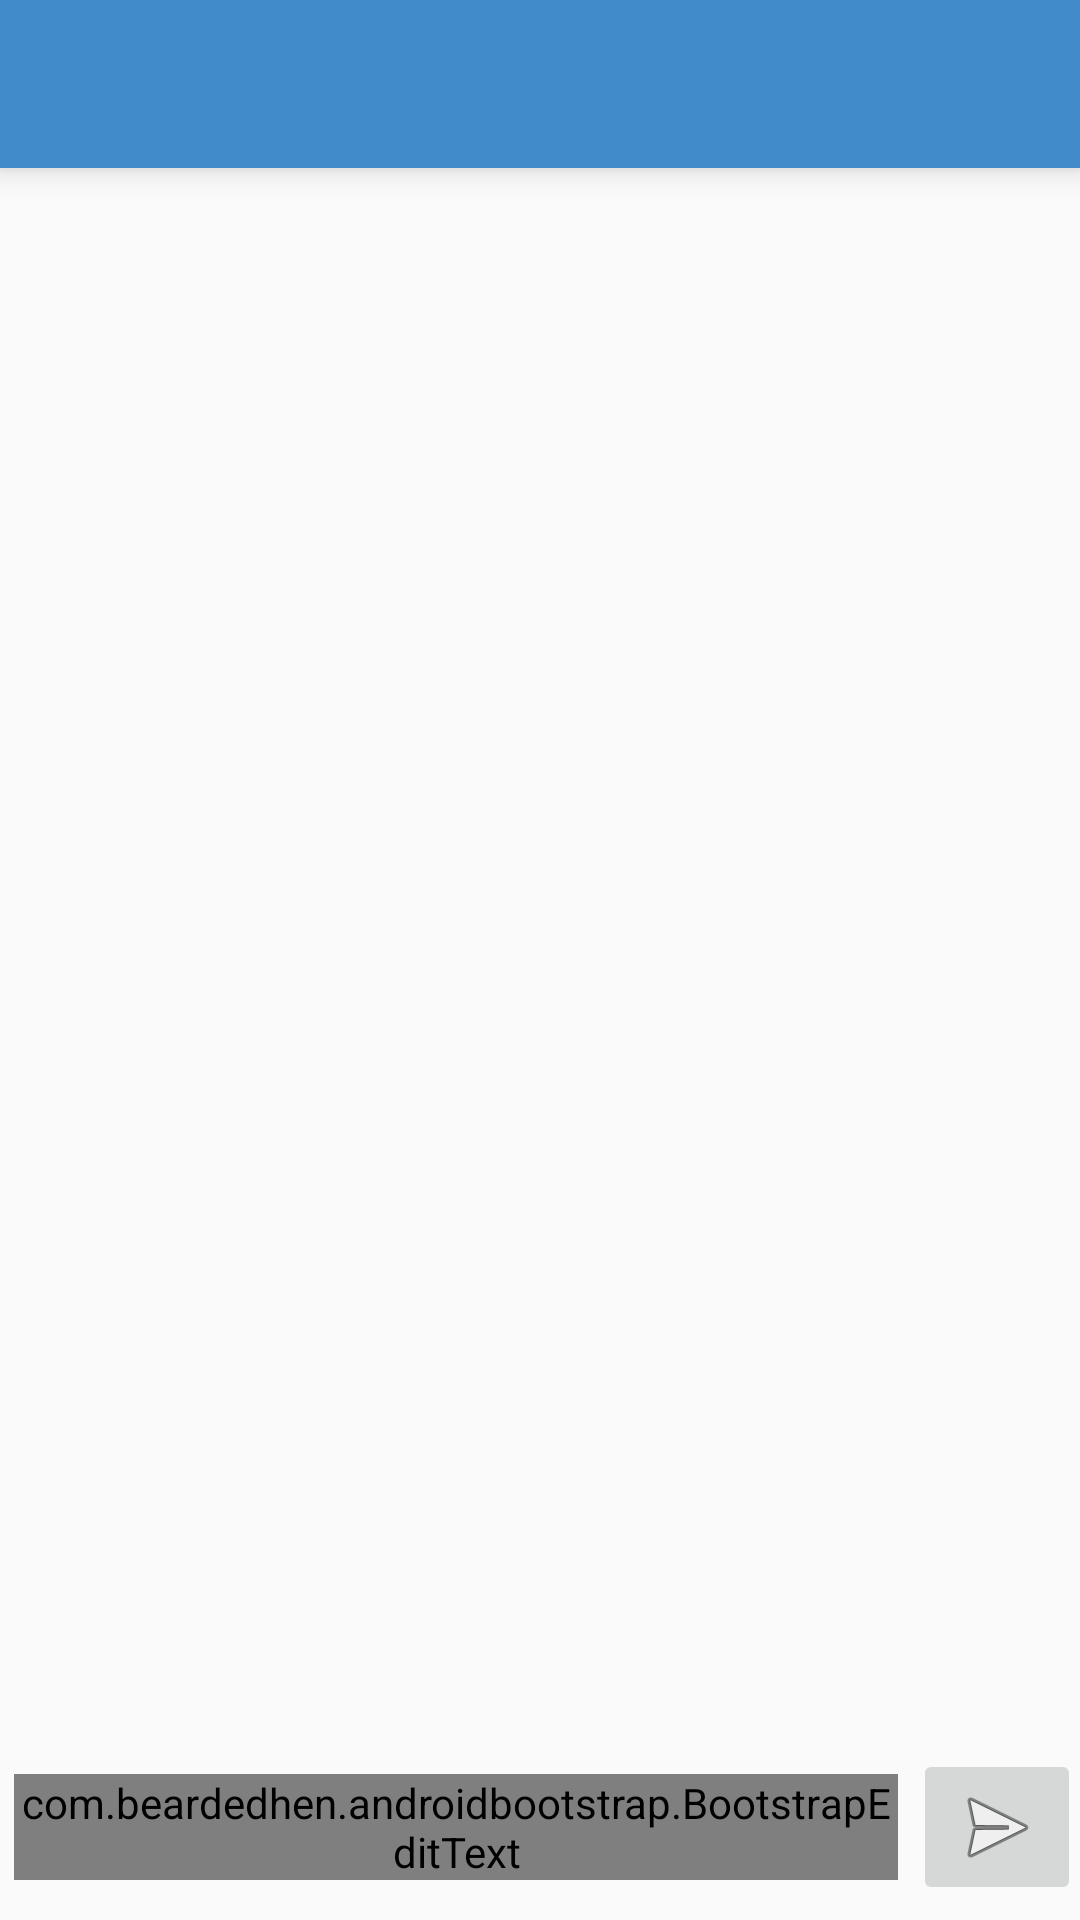

Named icons in this screenshot (1080x1920) and their centers, point (x, y):
send: point (997, 1827)
